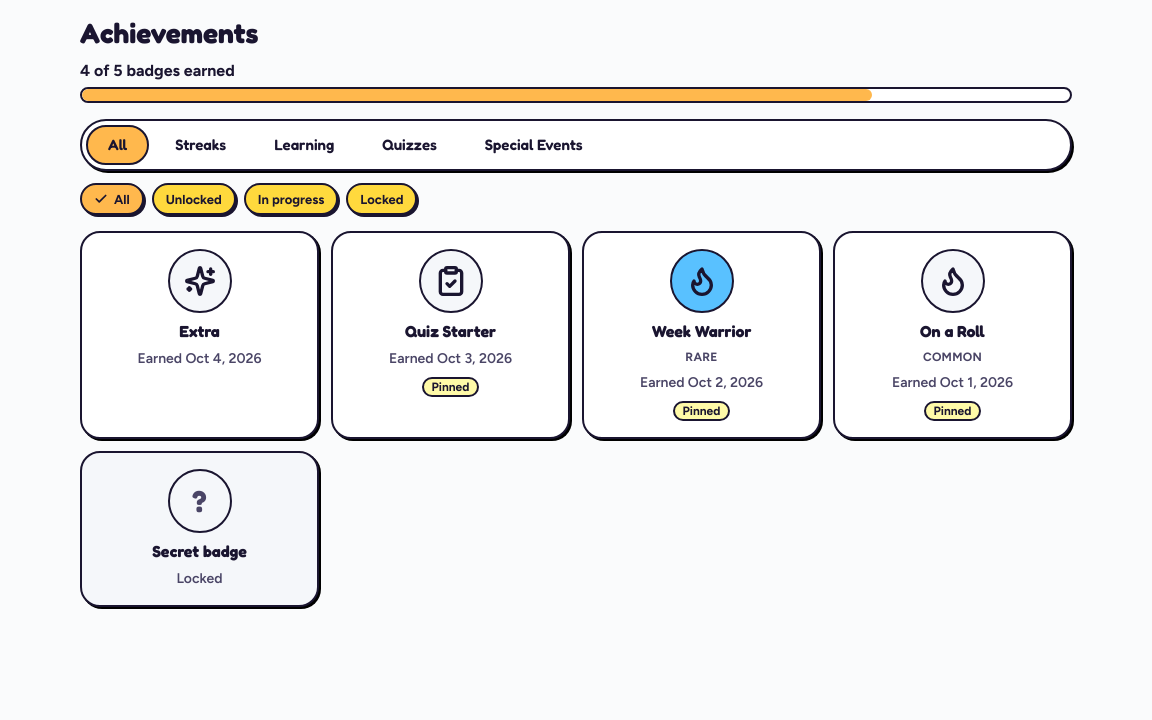
AchievementsPage › blocks a fourth pin
What coordinates should you click on to do the following:
click the button "Extra Earned Oct 4, 2026"
I would click on:
 (200, 335)
Its box is [80,231,319,439].
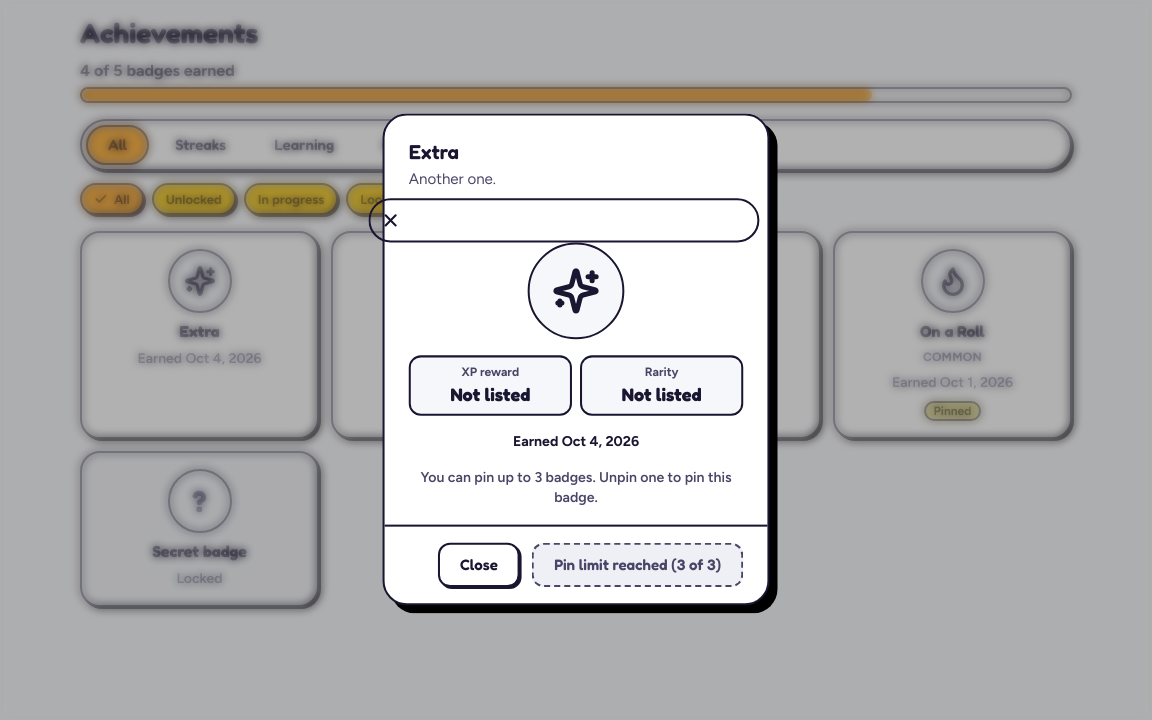
Now the button "Pin limit reached (3 of 3)" is disabled, box [532,542,742,586]
